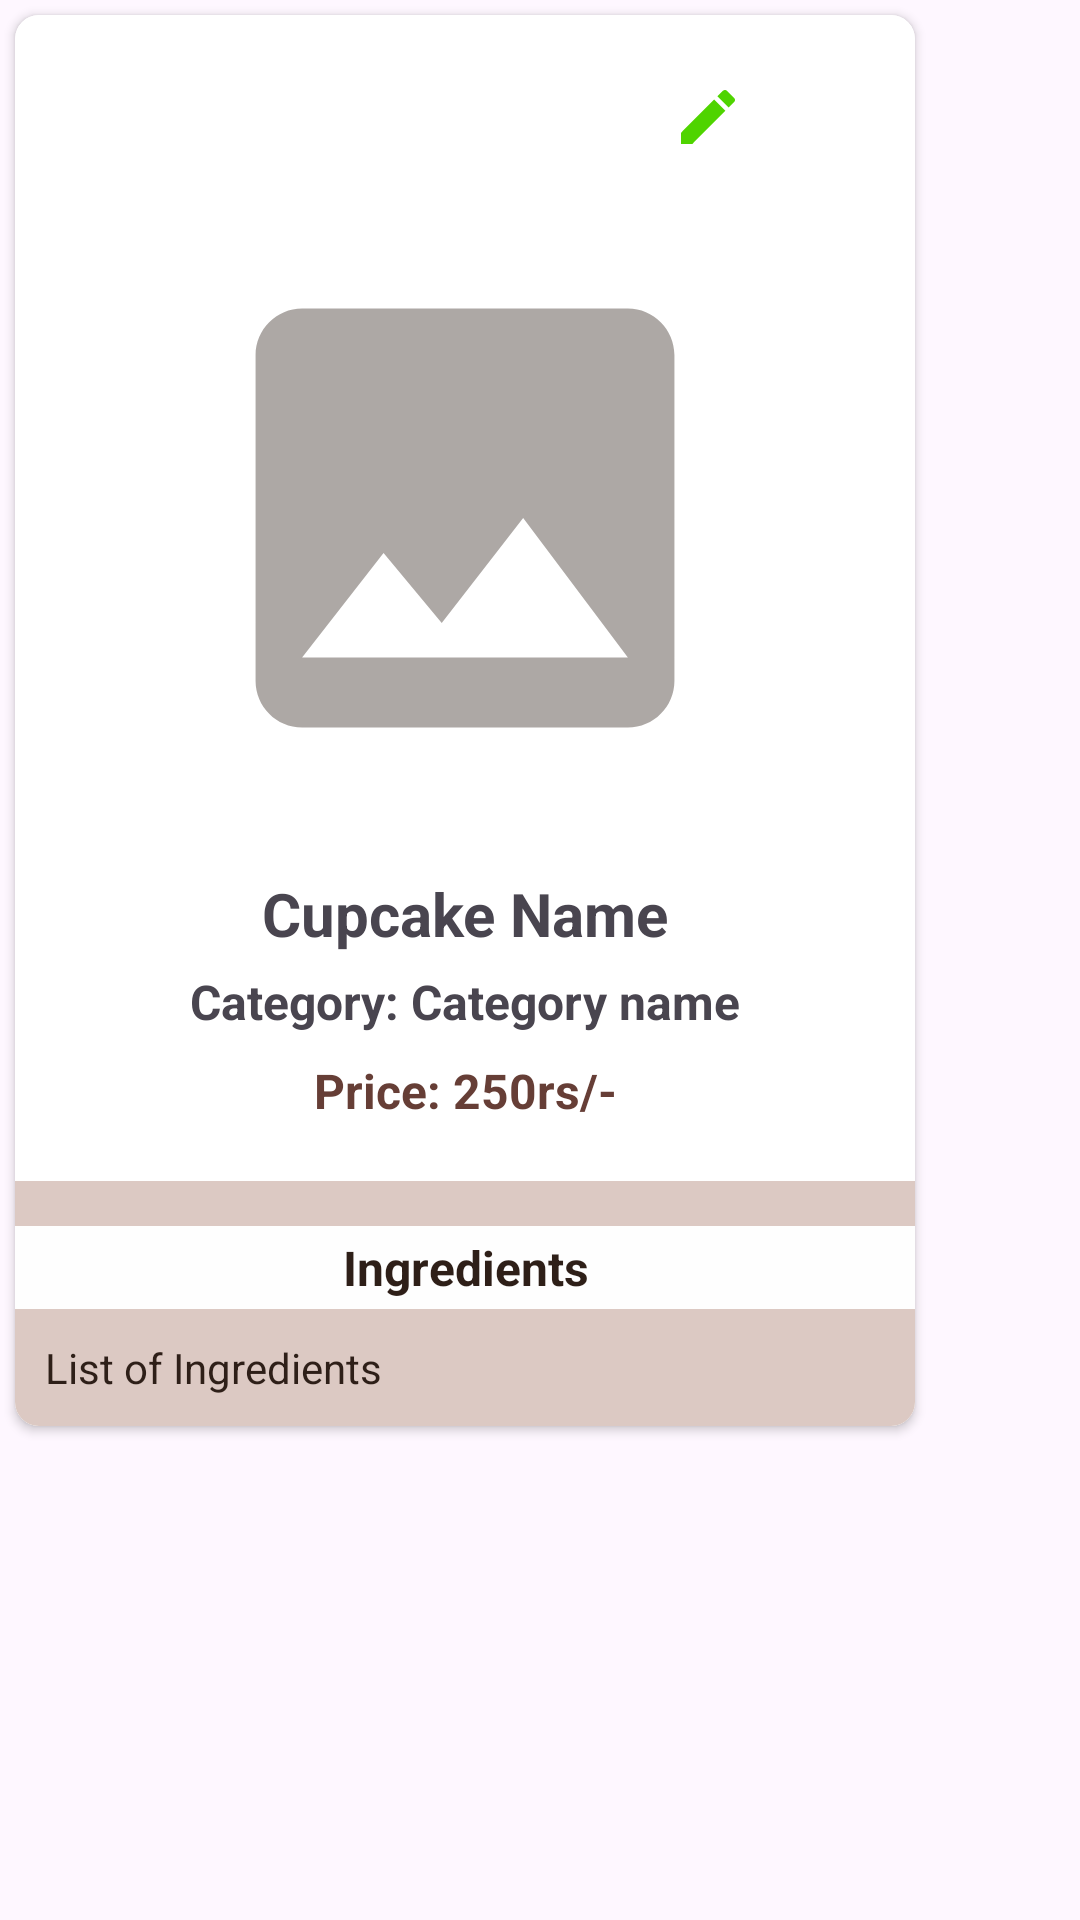

Where icons sit on this 1080 x 1920 app screen, as (x1, y1, x2, y2):
edit: (681, 90, 735, 144)
